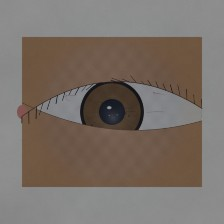pinguecula_lesion: (26, 107, 57, 132)
